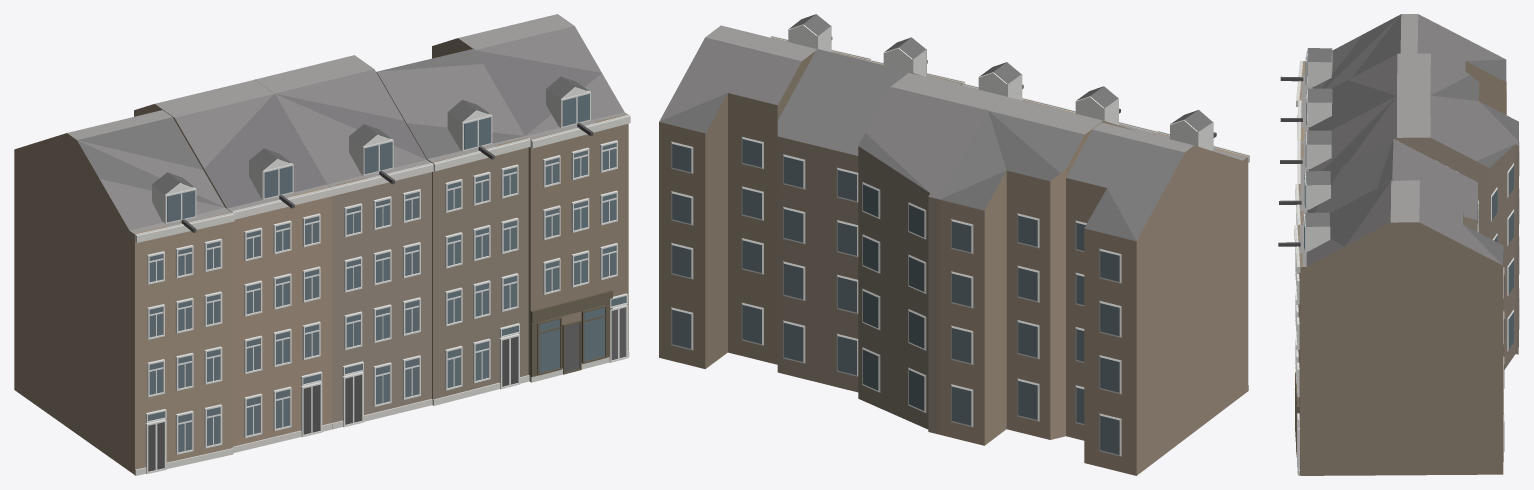
File: chunk-face-bellamydwars-4-12.glb
3 renders of one model, left to right at view 1: azimuth 30°, elevation 25°; view 2: azimuth 150°, elevation 25°; view 3: azimuth 270°, elevation 25°, orthographic. The views are drawn at different scales.
Parts seen in each view (by area): view 1: face-bellamydwars-4-12; view 2: face-bellamydwars-4-12; view 3: face-bellamydwars-4-12.
Boxes of the visible parts, bbox=[...] form: face-bellamydwars-4-12: bbox=[14, 14, 630, 475]; face-bellamydwars-4-12: bbox=[659, 14, 1249, 475]; face-bellamydwars-4-12: bbox=[1278, 14, 1519, 475].
Size of the model in its own units: 26.34 by 15 by 12.89.
